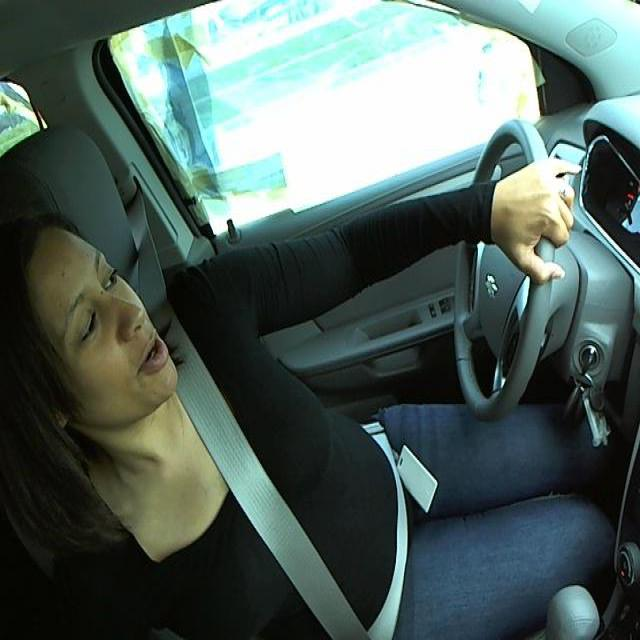seatbelt: (180, 364, 413, 639)
